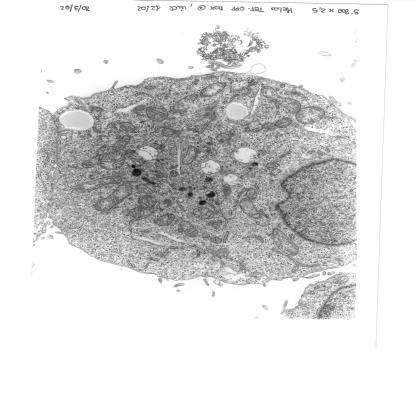mitochondria: (86, 182, 133, 211), (259, 86, 300, 114), (268, 227, 301, 256), (70, 176, 125, 193), (294, 106, 329, 125), (237, 197, 263, 220), (172, 93, 200, 114), (196, 81, 230, 96), (145, 106, 169, 122), (179, 220, 199, 238), (112, 135, 133, 151), (191, 206, 215, 220), (152, 213, 175, 227), (179, 145, 195, 165), (137, 194, 157, 209), (79, 156, 100, 169), (245, 120, 264, 134), (273, 116, 293, 128), (116, 121, 136, 132), (127, 207, 145, 219), (332, 276, 351, 286), (245, 187, 258, 200), (215, 133, 231, 143), (261, 122, 278, 131), (160, 127, 175, 137), (208, 220, 223, 230), (94, 143, 107, 154), (266, 161, 276, 171), (209, 238, 223, 244), (154, 172, 166, 178), (169, 171, 179, 177), (201, 233, 210, 238)
